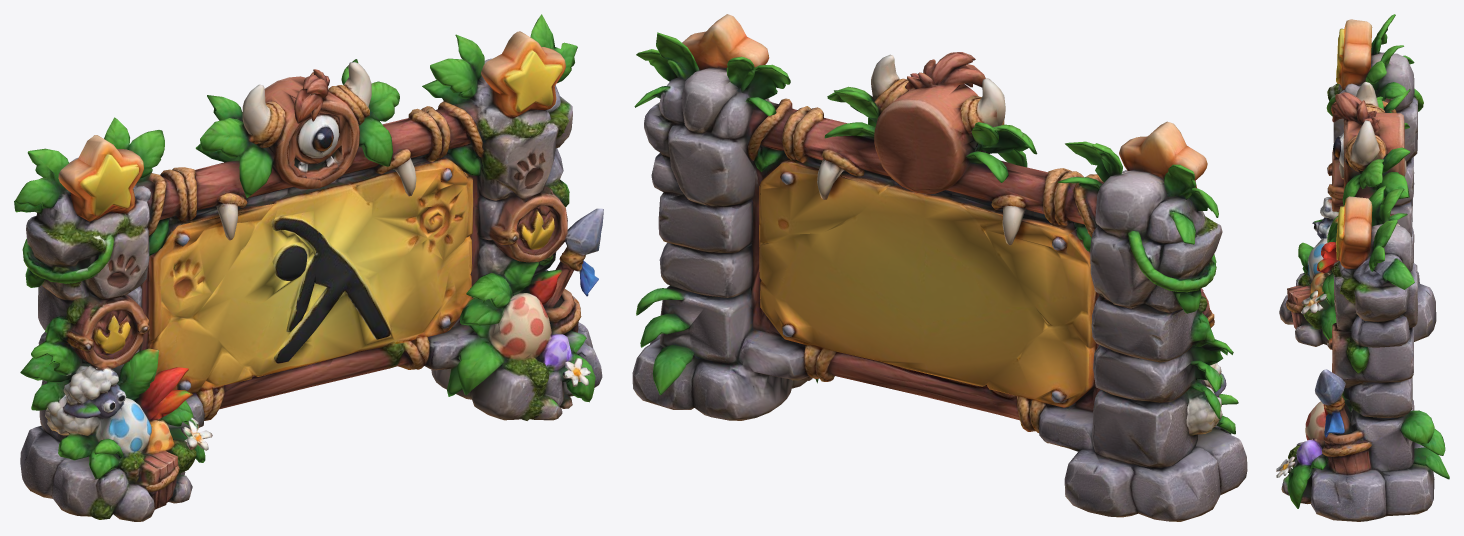
The model's file is pose_cyclops_2.glb.
The picture shows the model from 3 angles, left to right: view 1: azimuth 30°, elevation 25°; view 2: azimuth 150°, elevation 25°; view 3: azimuth 270°, elevation 25°; orthographic projection. The views are drawn at different scales.
Parts seen in each view (by area): view 1: tripo_node_089766fc-50d1-4bac-89a7-79168db267e2; view 2: tripo_node_089766fc-50d1-4bac-89a7-79168db267e2; view 3: tripo_node_089766fc-50d1-4bac-89a7-79168db267e2.
Boxes of the visible parts, x1=… form: tripo_node_089766fc-50d1-4bac-89a7-79168db267e2: x1=14, y1=14, x2=603, y2=521; tripo_node_089766fc-50d1-4bac-89a7-79168db267e2: x1=632, y1=14, x2=1247, y2=521; tripo_node_089766fc-50d1-4bac-89a7-79168db267e2: x1=1276, y1=14, x2=1449, y2=521.
Bounding box in the file's own units: 0.9988 × 0.6221 × 0.3128.
Materials: 1 (1 with a texture image).
